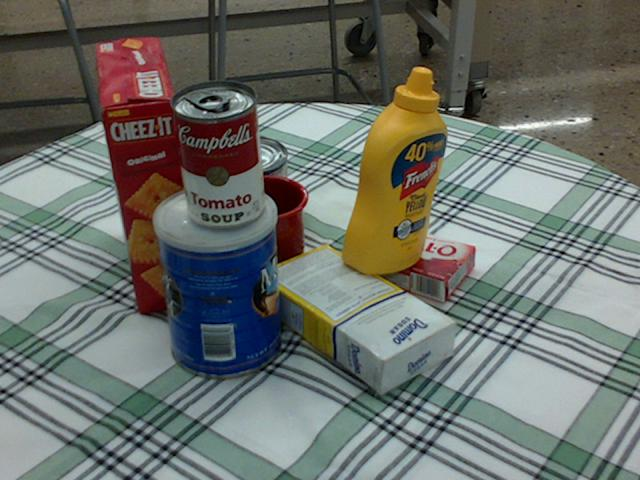cracker_box: (95, 40, 202, 311)
gelatin_box: (365, 226, 474, 303)
master_chef_can: (151, 183, 283, 379)
mug: (196, 174, 306, 283)
mustard_bottle: (341, 67, 446, 273)
potted_meat_can: (182, 153, 298, 241)
sugar_box: (256, 244, 458, 390)
tomato_soup_can: (170, 79, 263, 227)
tuna_fish_can: (207, 135, 287, 200)
